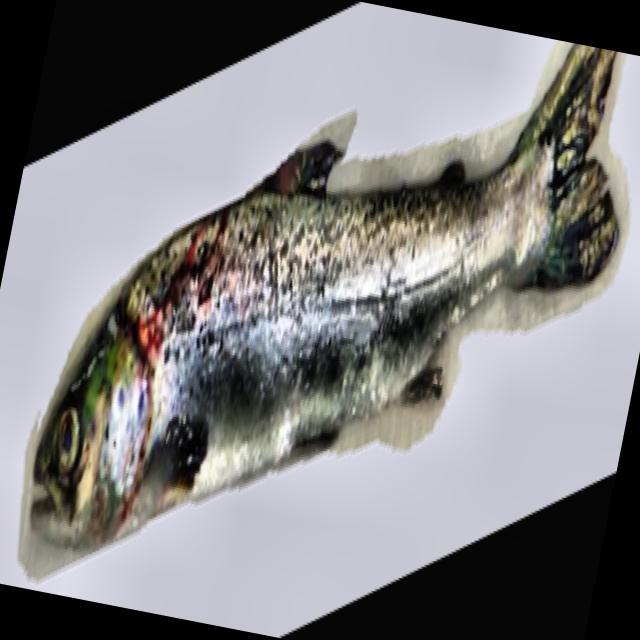mild_red: (81, 43, 619, 519)
